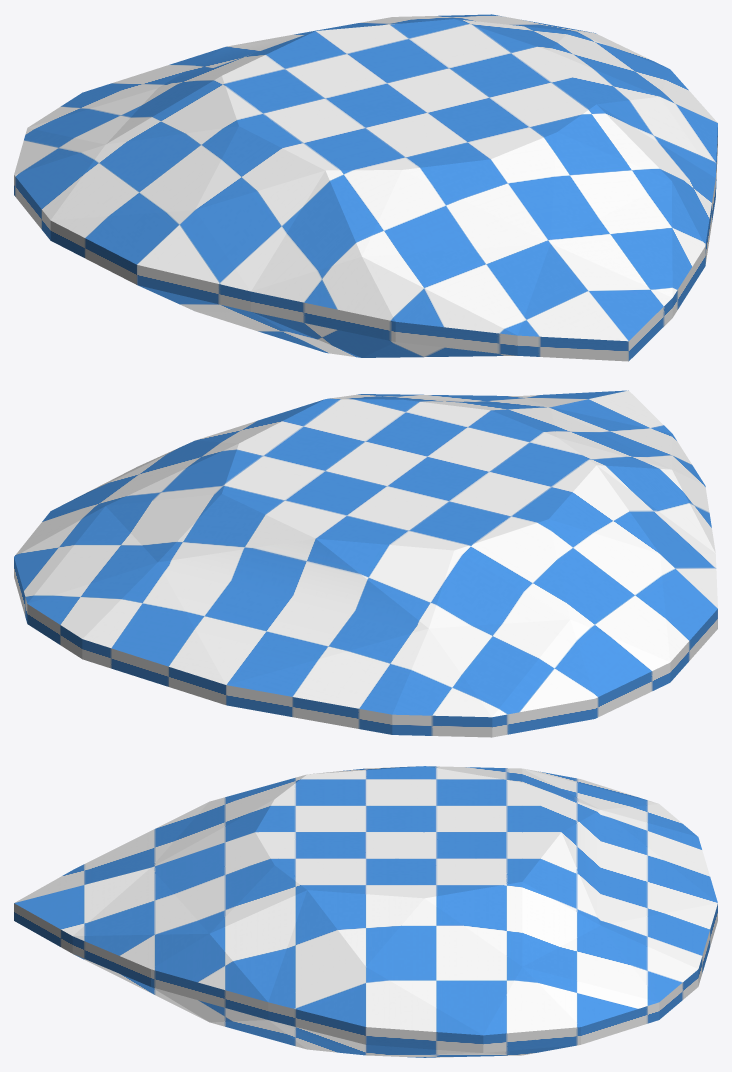
Rendered from PearCutDouble.FBX.
3 views of the same model, one above another, from view 1: azimuth 30°, elevation 25°; view 2: azimuth 150°, elevation 25°; view 3: azimuth 270°, elevation 25° (orthographic). The views are drawn at different scales.
Parts seen in each view (by area): view 1: PearCutDouble; view 2: PearCutDouble; view 3: PearCutDouble.
Boxes of the visible parts, <box> form: PearCutDouble: <box>14,14,717,361</box>; PearCutDouble: <box>14,390,717,737</box>; PearCutDouble: <box>14,766,717,1057</box>.
Bounding box in the file's own units: 1.02 × 0.2858 × 1.14.
